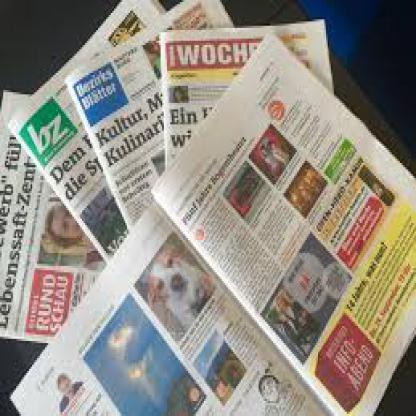paper: (150, 28, 414, 414), (8, 197, 329, 414), (6, 0, 167, 303), (64, 0, 235, 281), (0, 88, 179, 344), (159, 17, 332, 225)
